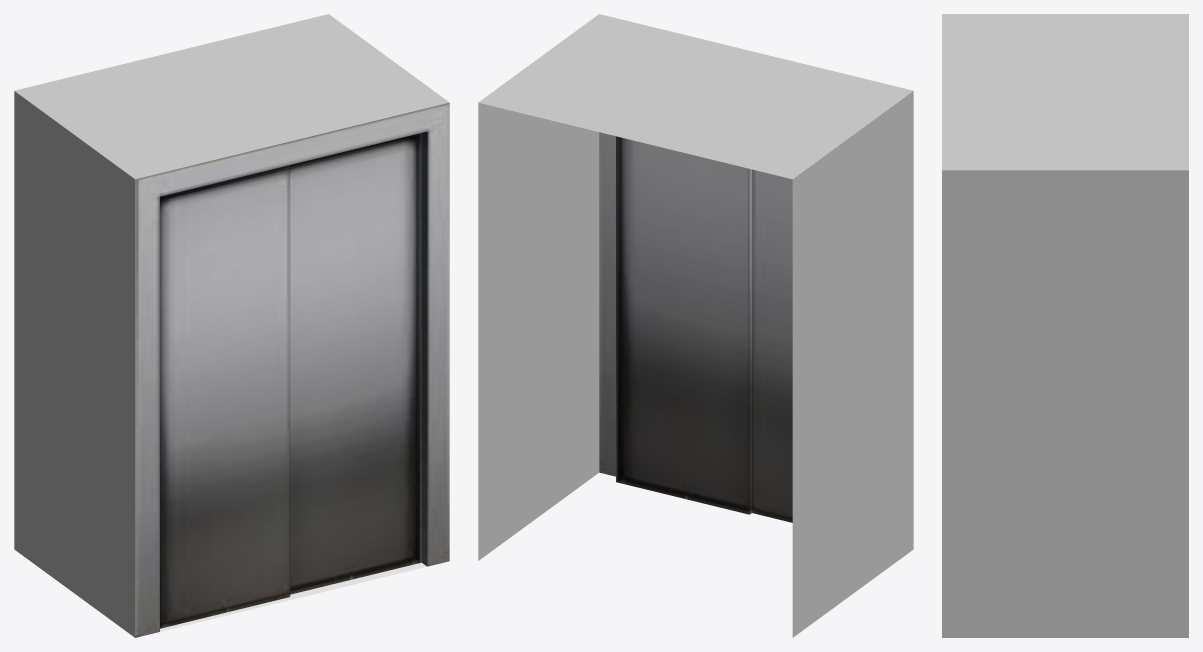
File: elevator.glb
3 views of the same model, side by side, from view 1: azimuth 30°, elevation 25°; view 2: azimuth 150°, elevation 25°; view 3: azimuth 270°, elevation 25° (orthographic).
Visible parts, largest first — view 1: images; view 2: images; view 3: images.
Part boxes in pixels (<box>): images: <box>14,14,449,637</box>; images: <box>478,14,913,637</box>; images: <box>942,14,1188,637</box>.
Bounding box in the file's own units: 2.67 × 3.72 × 1.78.
2 materials, 1 textured.
